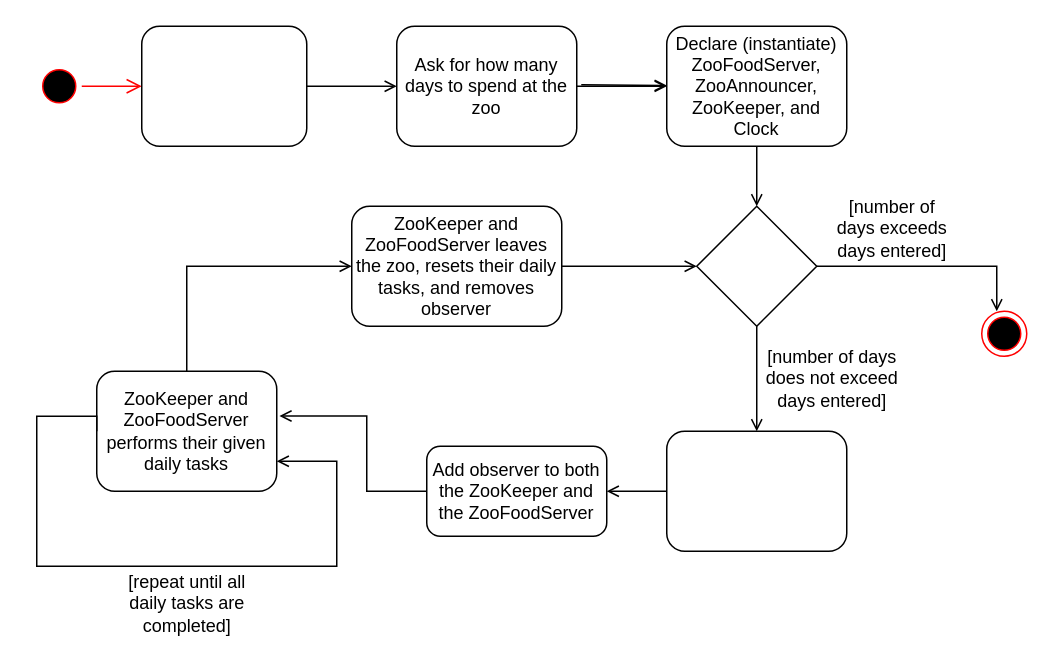
This 1053x668 diagram has some shape labels left out. Each missing label, with the centre of its shape:
Increment the day and have all the ZooEmployees arrive at the zoo: point 756,490
Initialize all animals in an ArrayList: point 223,85
